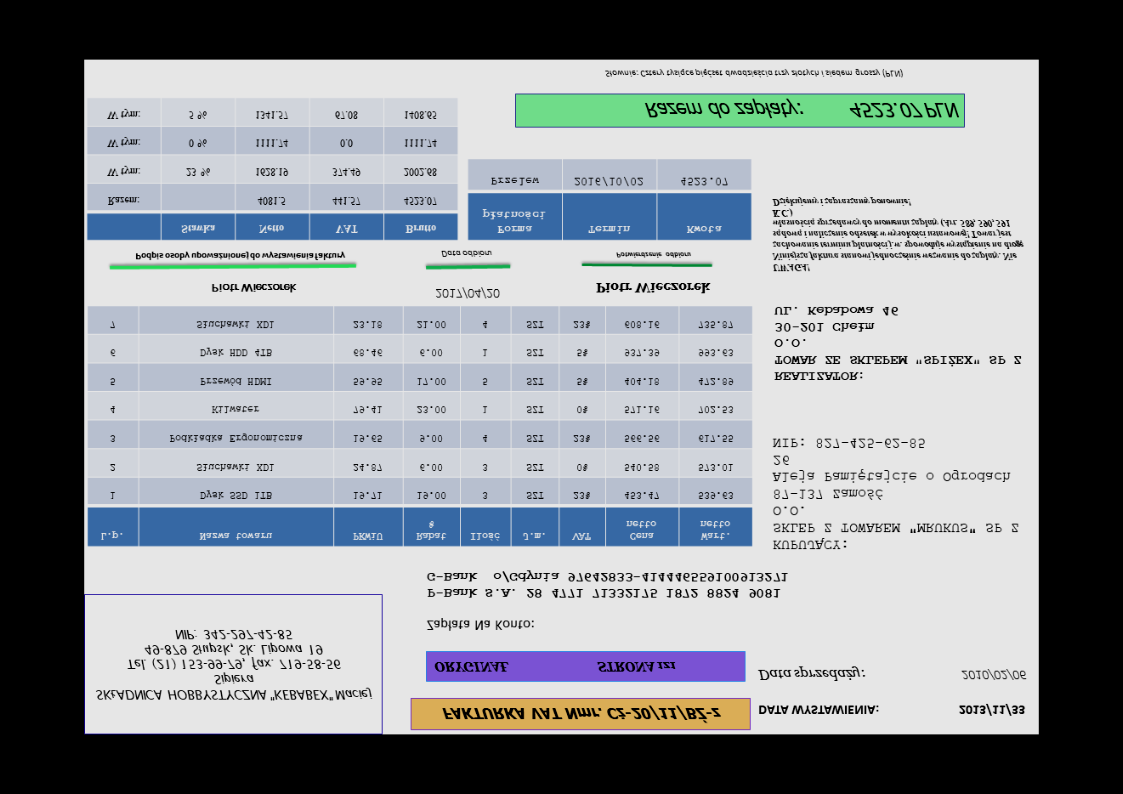Table: (85, 304, 754, 549), (85, 96, 459, 242), (466, 158, 753, 243)
TextBox: (769, 433, 1023, 554), (93, 625, 376, 705), (768, 193, 1029, 276), (772, 302, 1025, 384), (424, 567, 792, 602), (641, 99, 961, 122), (440, 702, 726, 726), (432, 659, 678, 678), (601, 67, 905, 81), (133, 248, 347, 264), (756, 664, 870, 686), (424, 616, 538, 634), (757, 702, 881, 718), (593, 281, 712, 296), (207, 281, 301, 296), (433, 284, 501, 302), (955, 701, 1029, 717), (957, 667, 1029, 683), (614, 249, 692, 261), (438, 247, 493, 261)
